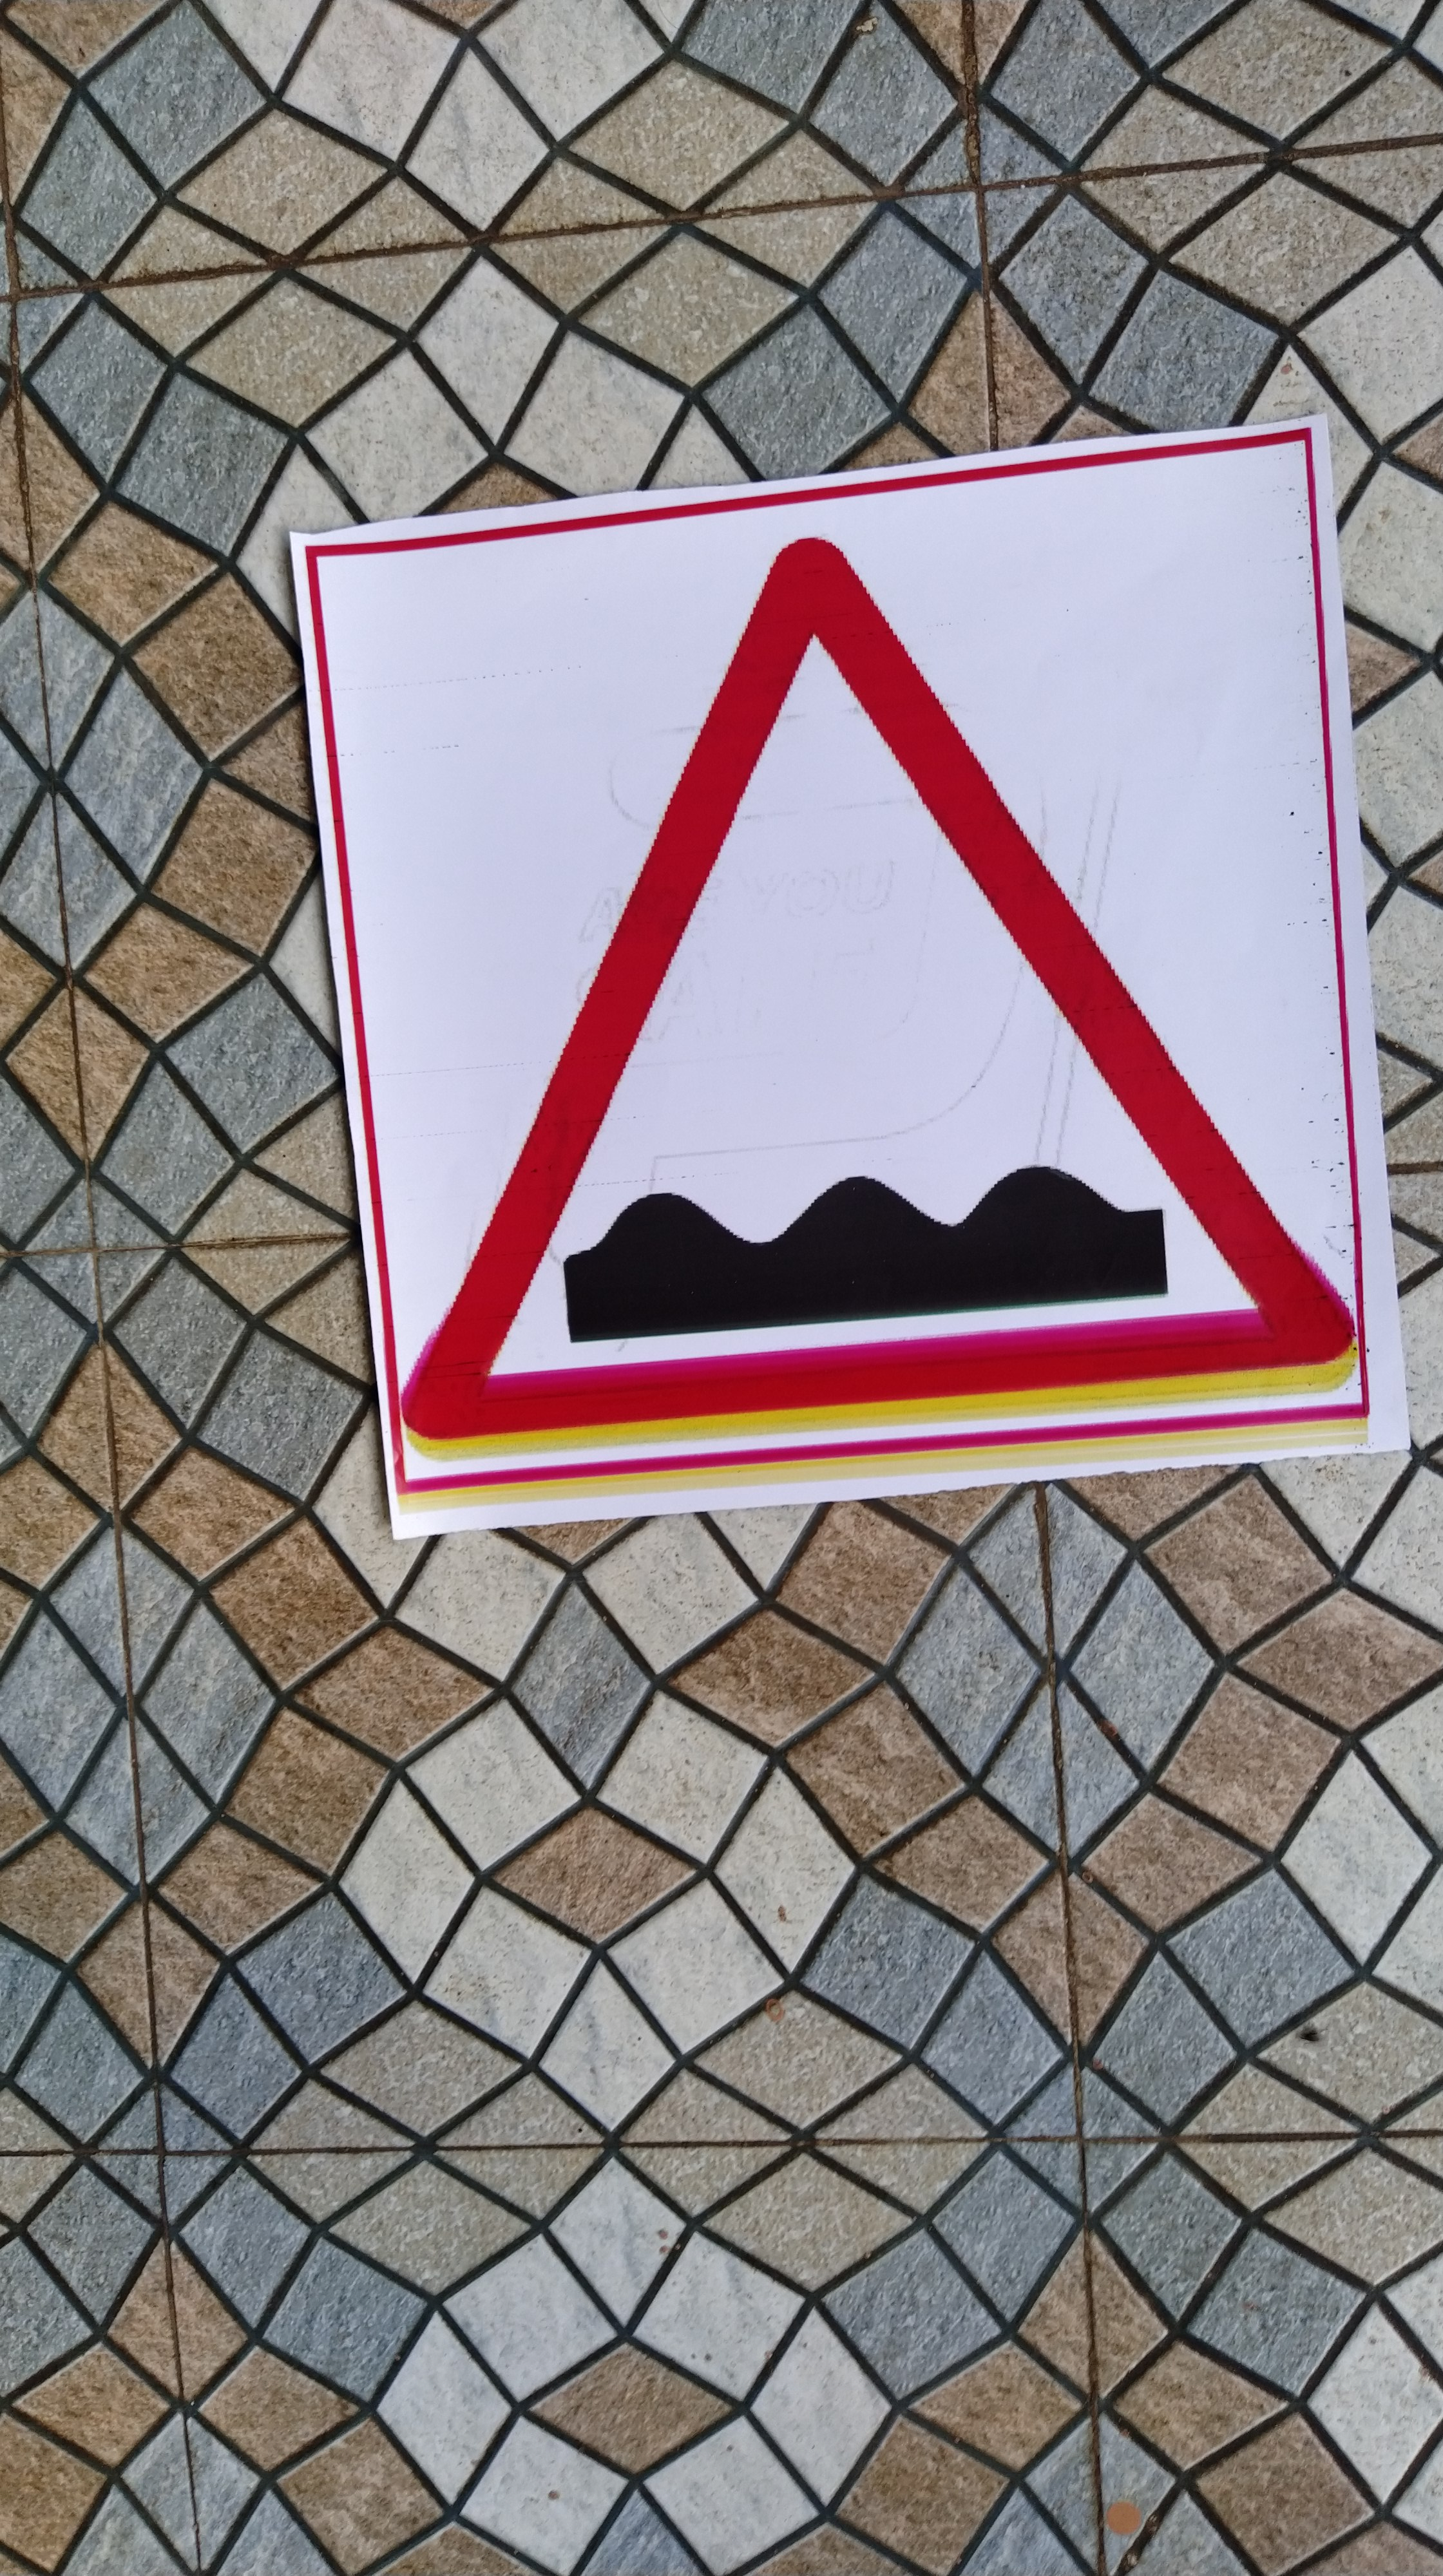speed breaker: (345, 541, 1388, 1470)
